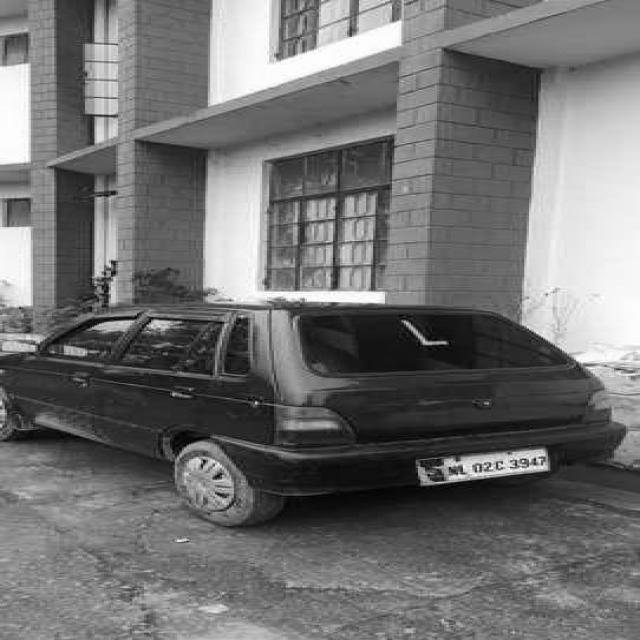car: (2, 301, 636, 526)
license-plate: (411, 439, 567, 489)
